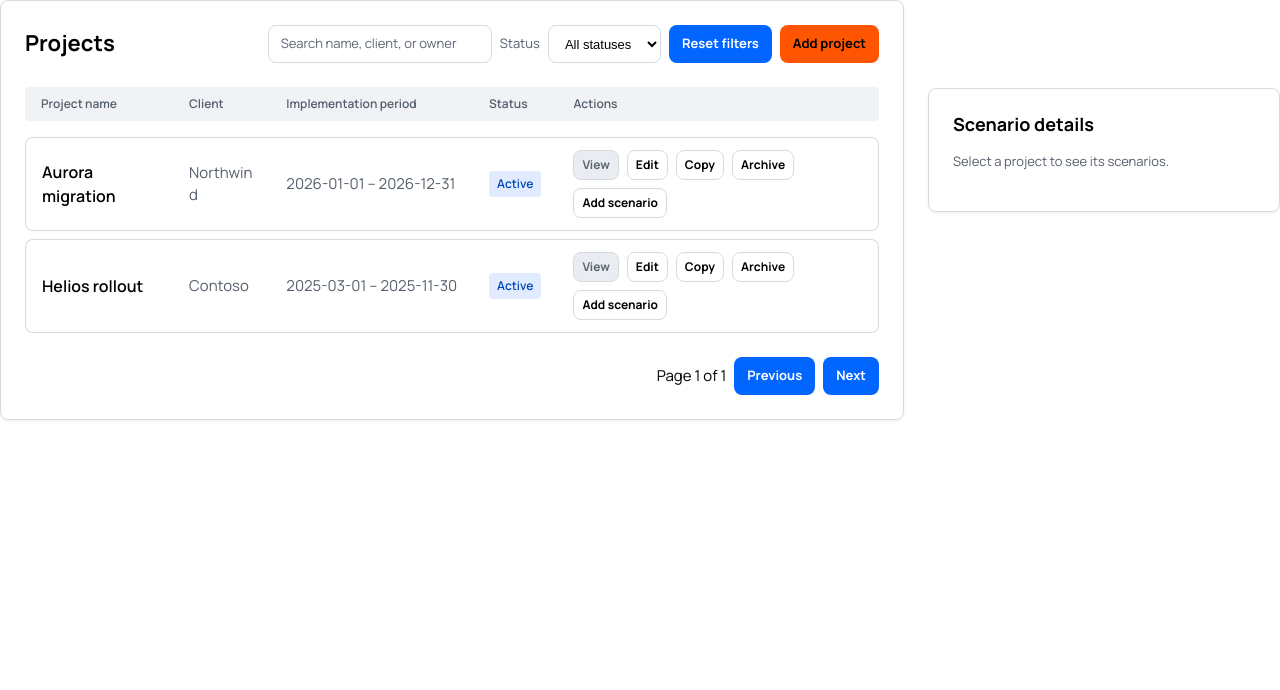
Test: K-01 — a withheld revenue is a named state, never 0 and never blank › renders a calculated zero as an amount — a computed 0.00 is legal
Step 1. Click the button "Aurora migration" → click(100, 184), box [42,160,157,208]
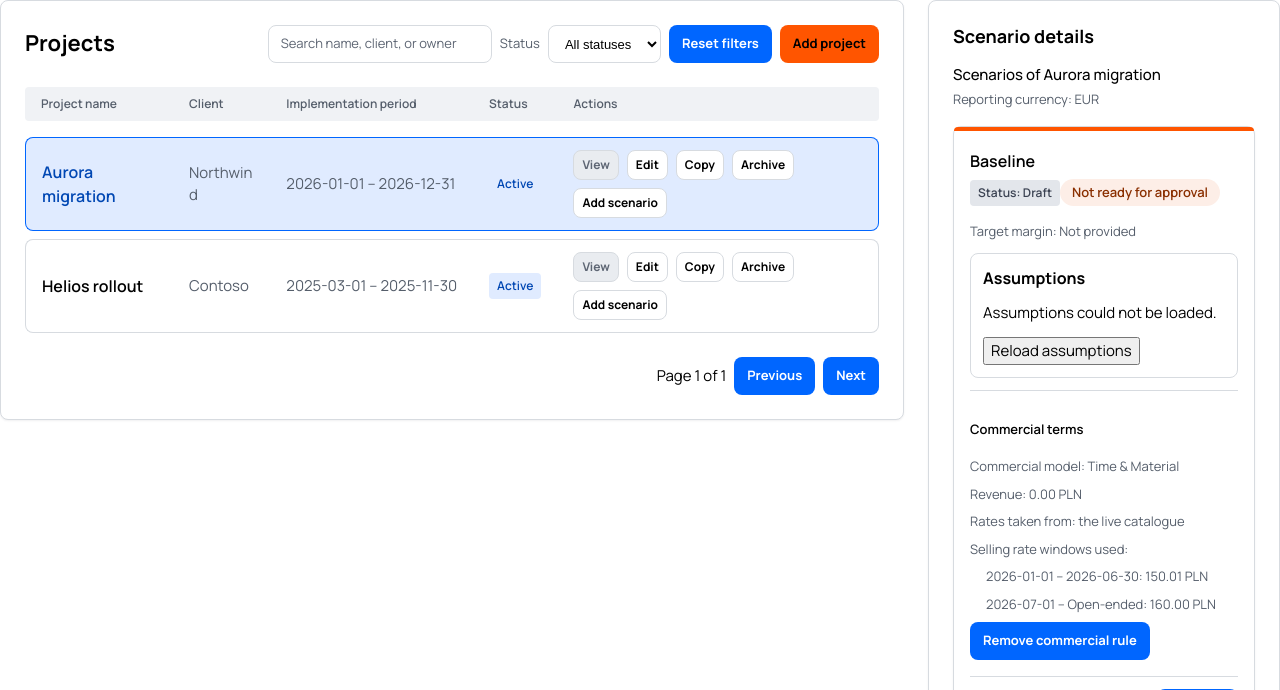
Expected: the text "Revenue: 0.00 PLN" is shown, [970,485,1082,503]
